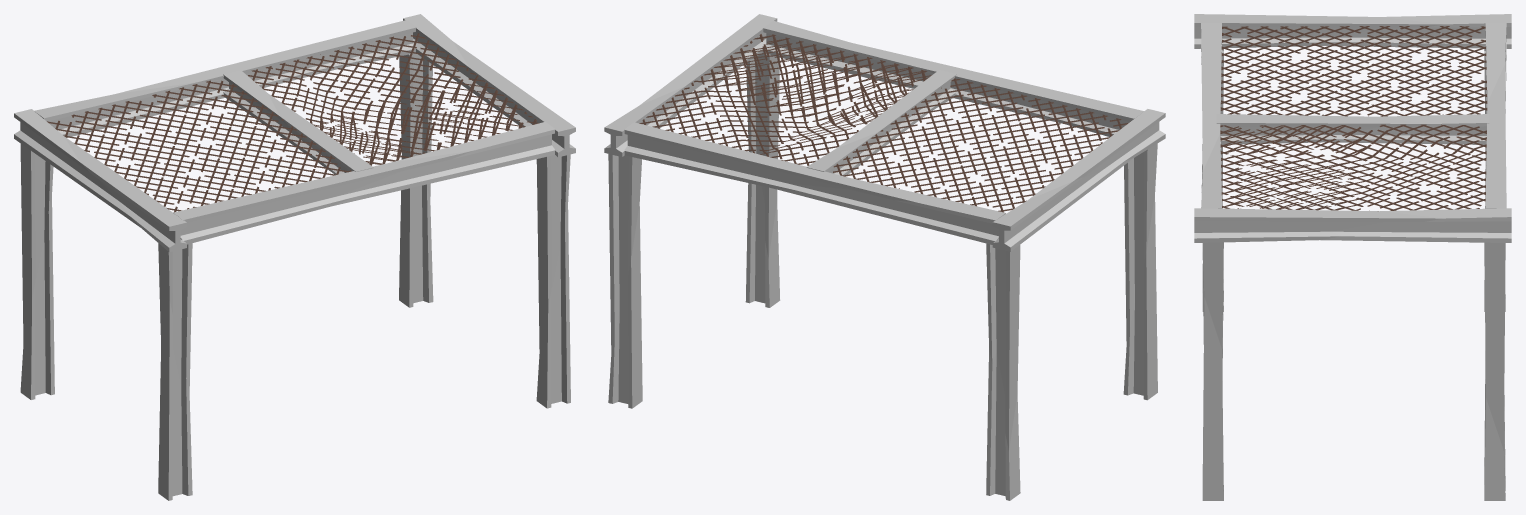
File: SM_Prop_IndustrialWalkway_Preset_01.fbx
3 renders of one model, left to right at view 1: azimuth 30°, elevation 25°; view 2: azimuth 150°, elevation 25°; view 3: azimuth 270°, elevation 25°, orthographic. The views are drawn at different scales.
Parts seen in each view (by area): view 1: SM_Prop_IndustrialWalkway_Preset_01; view 2: SM_Prop_IndustrialWalkway_Preset_01; view 3: SM_Prop_IndustrialWalkway_Preset_01.
Part boxes in pixels (box(x1,y1,x2,y2)): SM_Prop_IndustrialWalkway_Preset_01: box(14, 14, 575, 500); SM_Prop_IndustrialWalkway_Preset_01: box(604, 14, 1165, 500); SM_Prop_IndustrialWalkway_Preset_01: box(1194, 14, 1511, 500).
Bounding box in the file's own units: 476 × 311 × 315.
